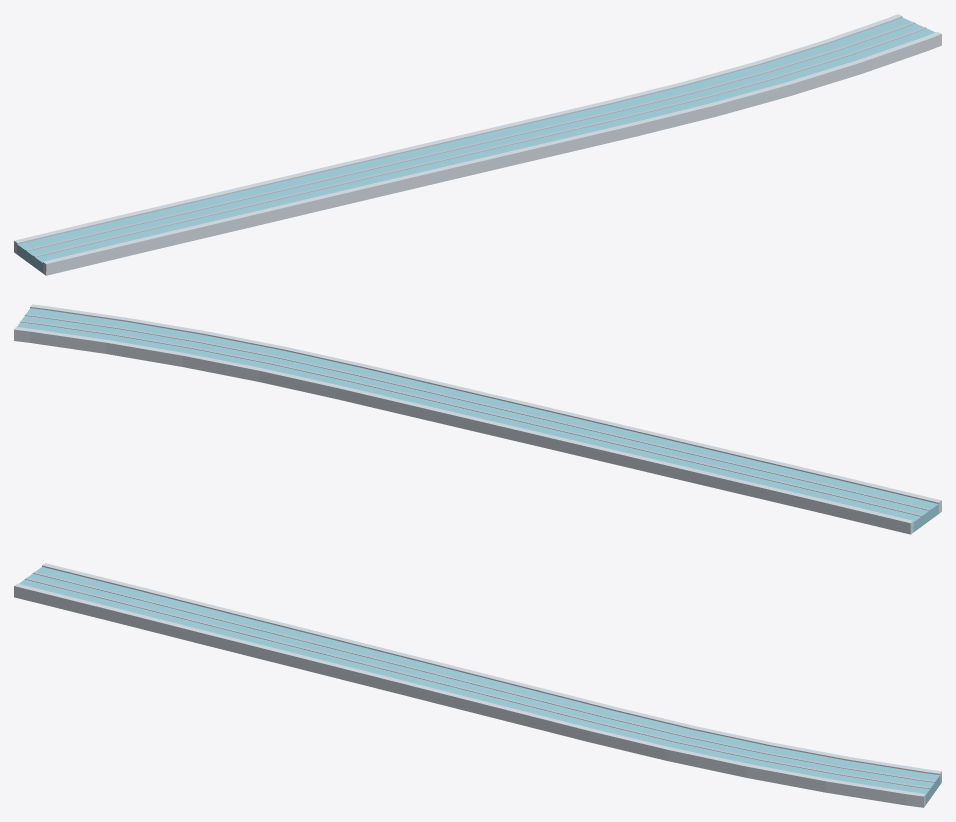
The model's file is Road_4_1_0.fbx.
The picture shows the model from 3 angles, top to bottom: view 1: azimuth 30°, elevation 25°; view 2: azimuth 150°, elevation 25°; view 3: azimuth 330°, elevation 25°; orthographic projection. The views are drawn at different scales.
Visible parts, largest first — view 1: Road_4_1_0; view 2: Road_4_1_0; view 3: Road_4_1_0.
Part boxes in pixels (x1=…): Road_4_1_0: x1=14, y1=14, x2=941, y2=275; Road_4_1_0: x1=14, y1=304, x2=941, y2=534; Road_4_1_0: x1=14, y1=563, x2=941, y2=807.
Size of the model in its own units: 16113 by 321 by 1554.
